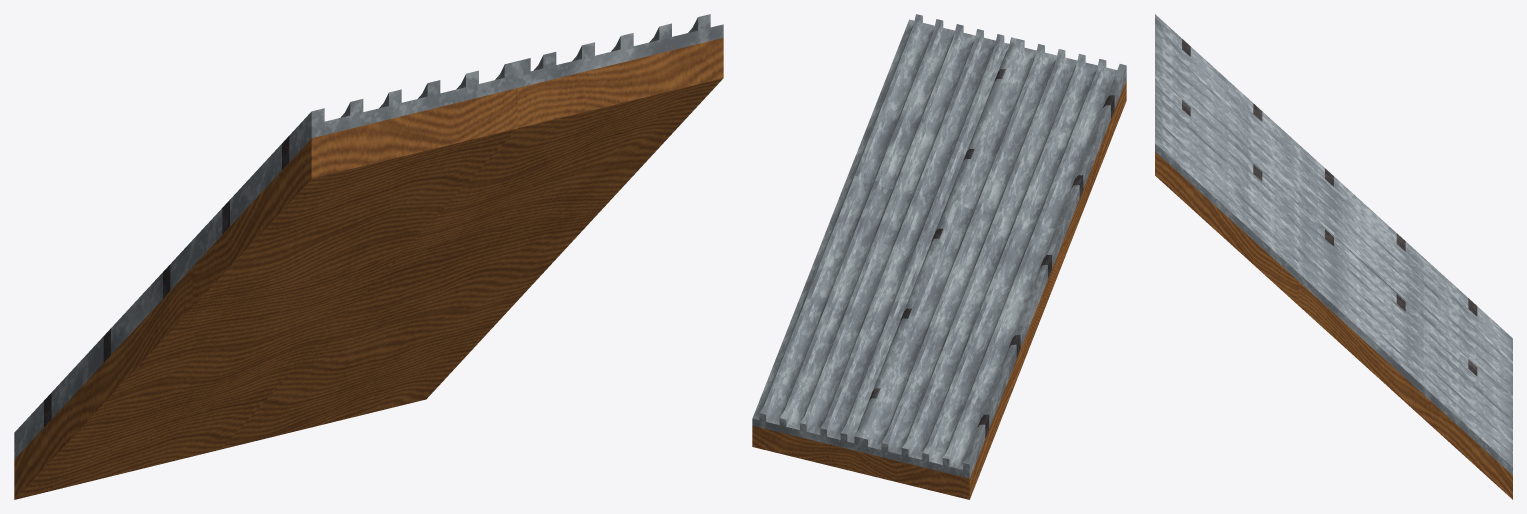
File: roof_zinc.glb
3 renders of one model, left to right at view 1: azimuth 30°, elevation 25°; view 2: azimuth 150°, elevation 25°; view 3: azimuth 270°, elevation 25°, orthographic. The views are drawn at different scales.
Visible parts, largest first — view 1: town_roof_zinc; view 2: town_roof_zinc; view 3: town_roof_zinc.
Boxes of the visible parts, x1,y1,x2,y2 form: town_roof_zinc: [14, 14, 723, 499]; town_roof_zinc: [752, 14, 1126, 499]; town_roof_zinc: [1155, 14, 1512, 499].
Bounding box in the file's own units: 1 × 1.41 × 1.25.
Materials: 1 (1 with a texture image).
